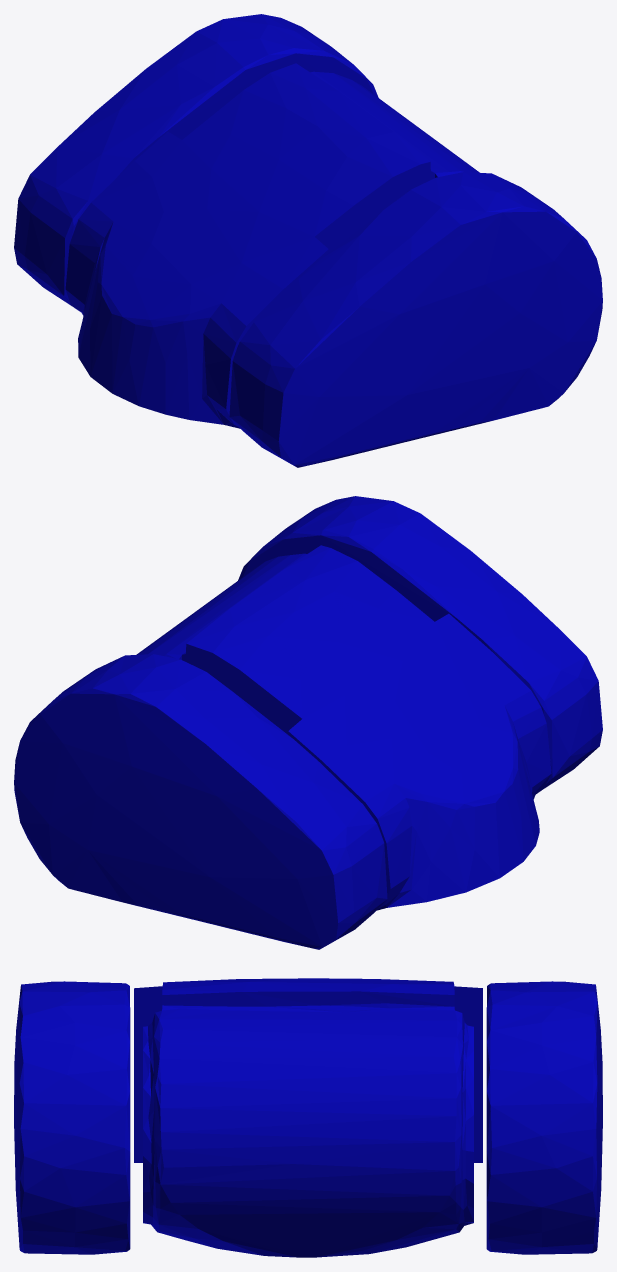
Rendered from head_pan.gltf.
3 renders of one model, top to bottom at view 1: azimuth 30°, elevation 25°; view 2: azimuth 150°, elevation 25°; view 3: azimuth 270°, elevation 25°, orthographic. The views are drawn at different scales.
Visible parts, largest first — view 1: Node; view 2: Node; view 3: Node.
Boxes of the visible parts, bbox=[...] form: Node: bbox=[14, 14, 602, 467]; Node: bbox=[14, 496, 602, 949]; Node: bbox=[14, 978, 602, 1257].
Size of the model in its own units: 0.2537 by 0.1422 by 0.3212.
